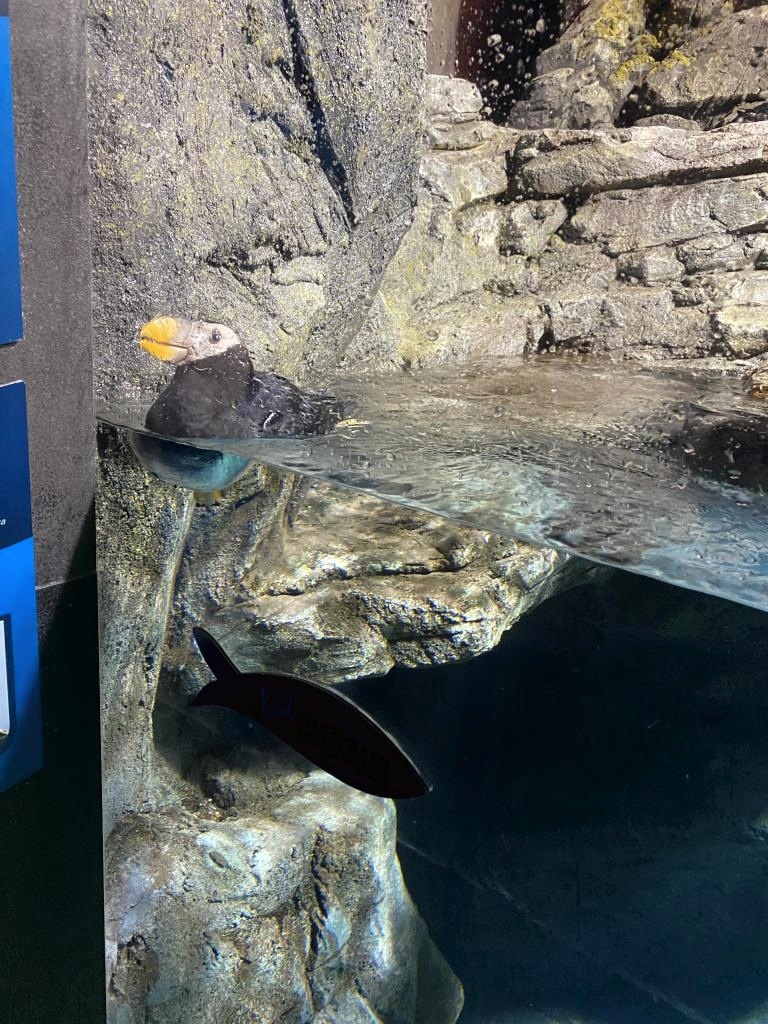puffin: (136, 314, 356, 490)
